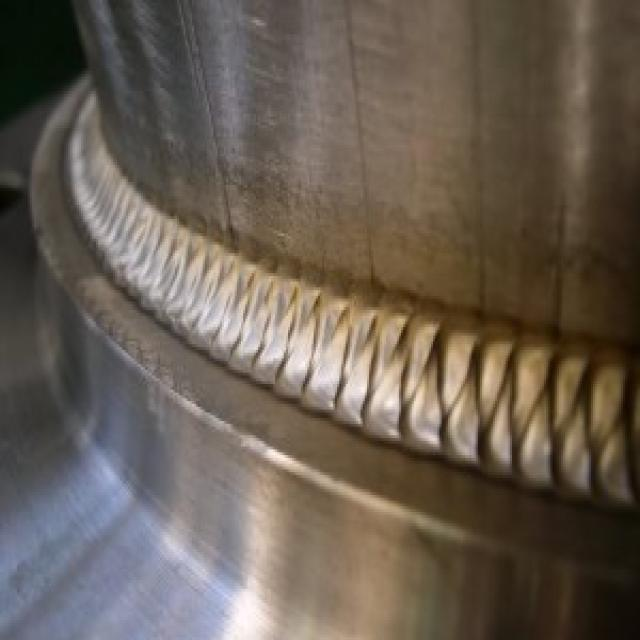Good Welding: (34, 2, 640, 509)
